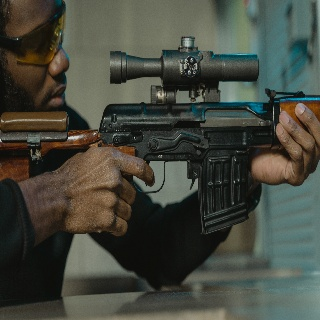rifle: (1, 34, 320, 238)
